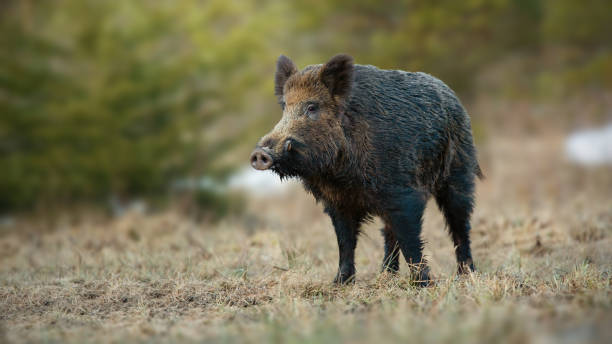pig: (244, 54, 484, 288)
